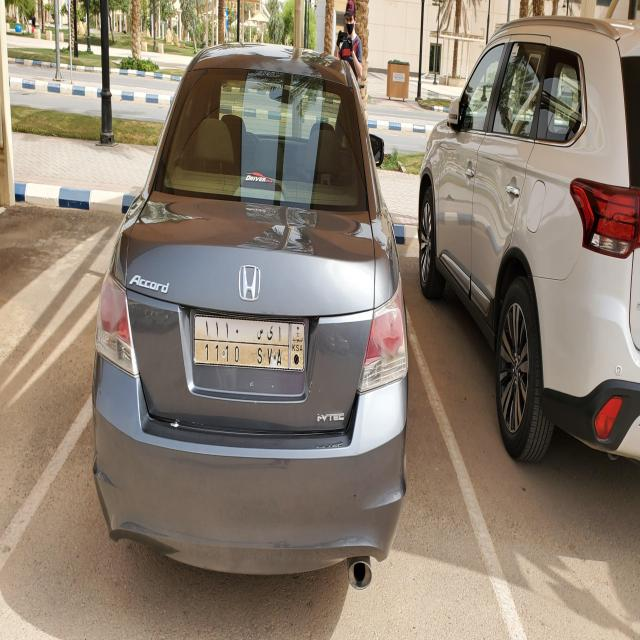license_plate: (193, 313, 304, 376)
